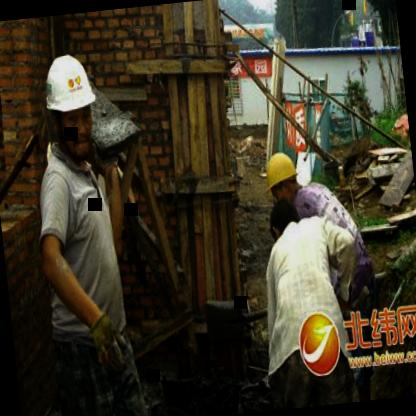head: (264, 196, 304, 250)
helmet: (34, 40, 106, 168), (262, 148, 302, 210)
